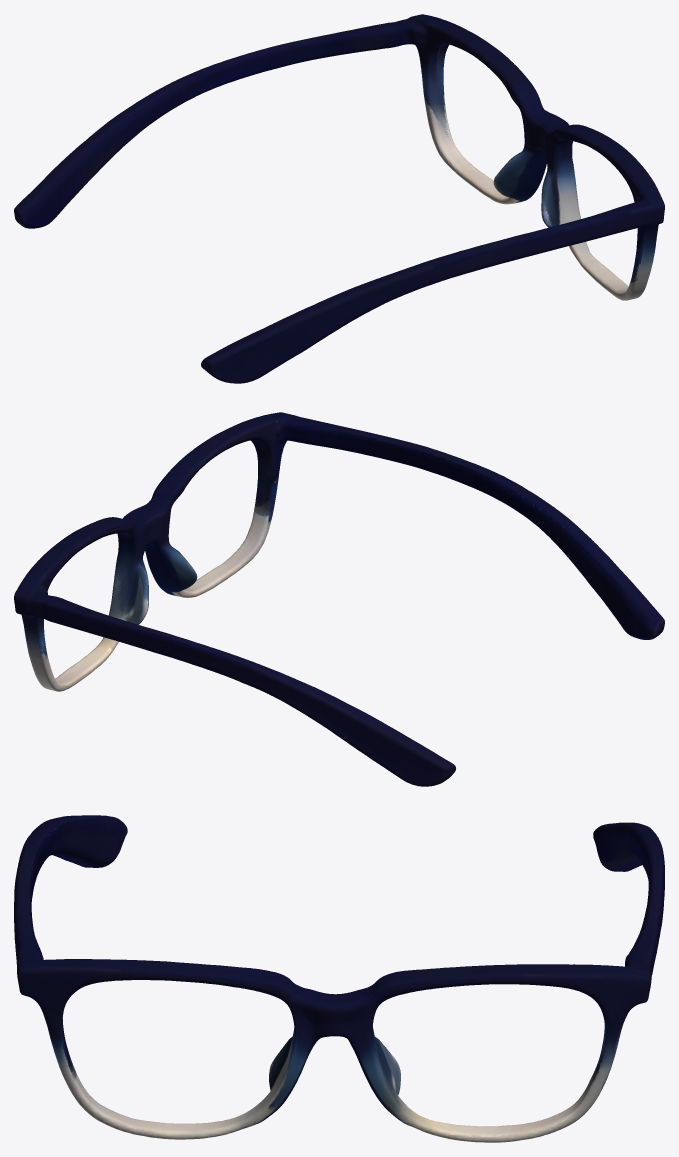
Rendered from lens5.glb.
3 views of the same model, one above another, from view 1: azimuth 30°, elevation 25°; view 2: azimuth 150°, elevation 25°; view 3: azimuth 270°, elevation 25° (orthographic). The views are drawn at different scales.
Visible parts, largest first — view 1: tripo_node_5a80d504-02b9-4419-a857-88238b4812f7; view 2: tripo_node_5a80d504-02b9-4419-a857-88238b4812f7; view 3: tripo_node_5a80d504-02b9-4419-a857-88238b4812f7.
Boxes of the visible parts, x1,y1,x2,y2 form: tripo_node_5a80d504-02b9-4419-a857-88238b4812f7: (14,14,664,383); tripo_node_5a80d504-02b9-4419-a857-88238b4812f7: (14,412,664,786); tripo_node_5a80d504-02b9-4419-a857-88238b4812f7: (14,815,664,1142).
Size of the model in its own units: 0.8898 by 0.2616 by 0.9023.
1 material, 1 textured.
